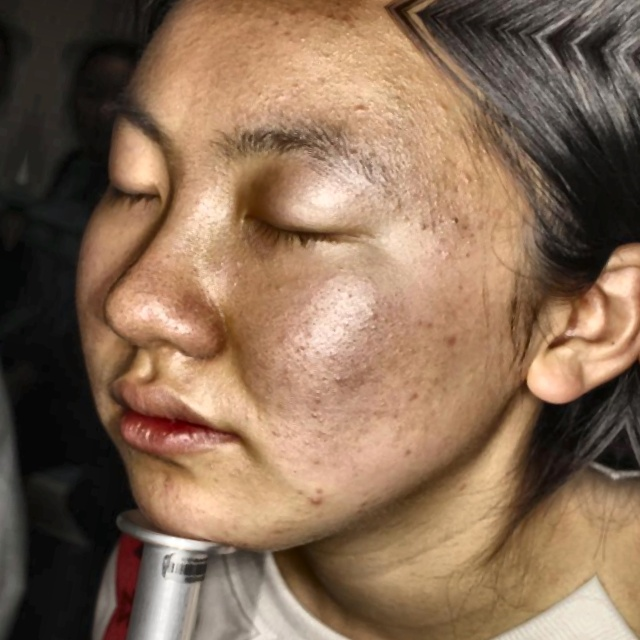comedone: (296, 486, 334, 521)
